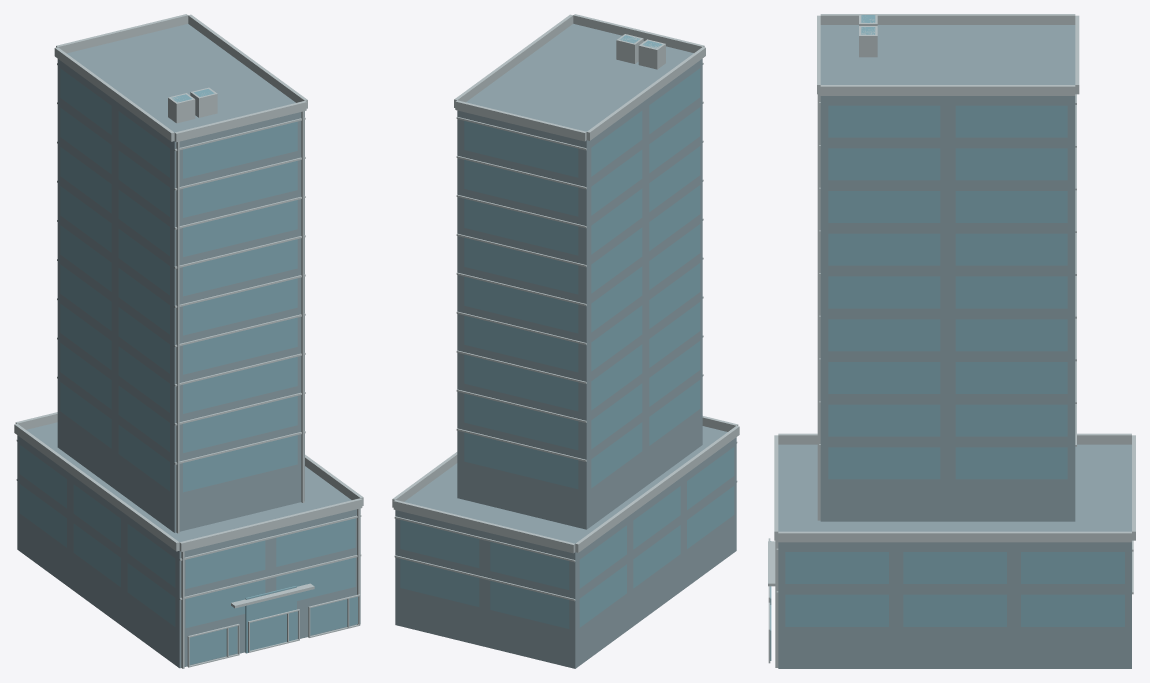
The model's file is commercial_2x3_b.glb.
3 renders of one model, left to right at view 1: azimuth 30°, elevation 25°; view 2: azimuth 150°, elevation 25°; view 3: azimuth 270°, elevation 25°, orthographic. The views are drawn at different scales.
Parts seen in each view (by area): view 1: commercial_2x3_b_0; view 2: commercial_2x3_b_0; view 3: commercial_2x3_b_0.
Part boxes in pixels (left/top/right/bottom): commercial_2x3_b_0: left=14, top=14, right=363, bottom=668; commercial_2x3_b_0: left=392, top=14, right=739, bottom=668; commercial_2x3_b_0: left=768, top=14, right=1135, bottom=668.
Size of the model in its own units: 15 by 40.5 by 23.4.
